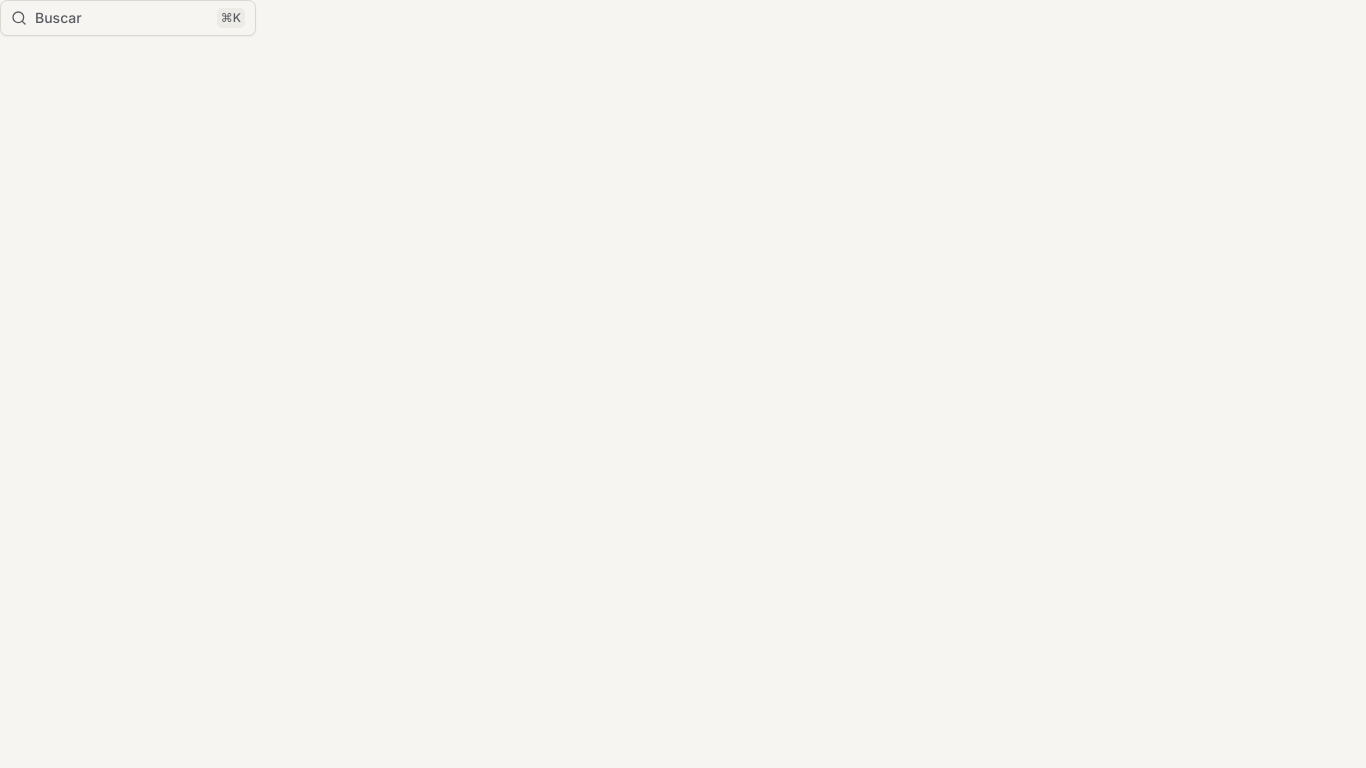
Test: CommandMenu › finds quick actions by their Spanish label (M2): 'pago' lists Registrar pago
Press k
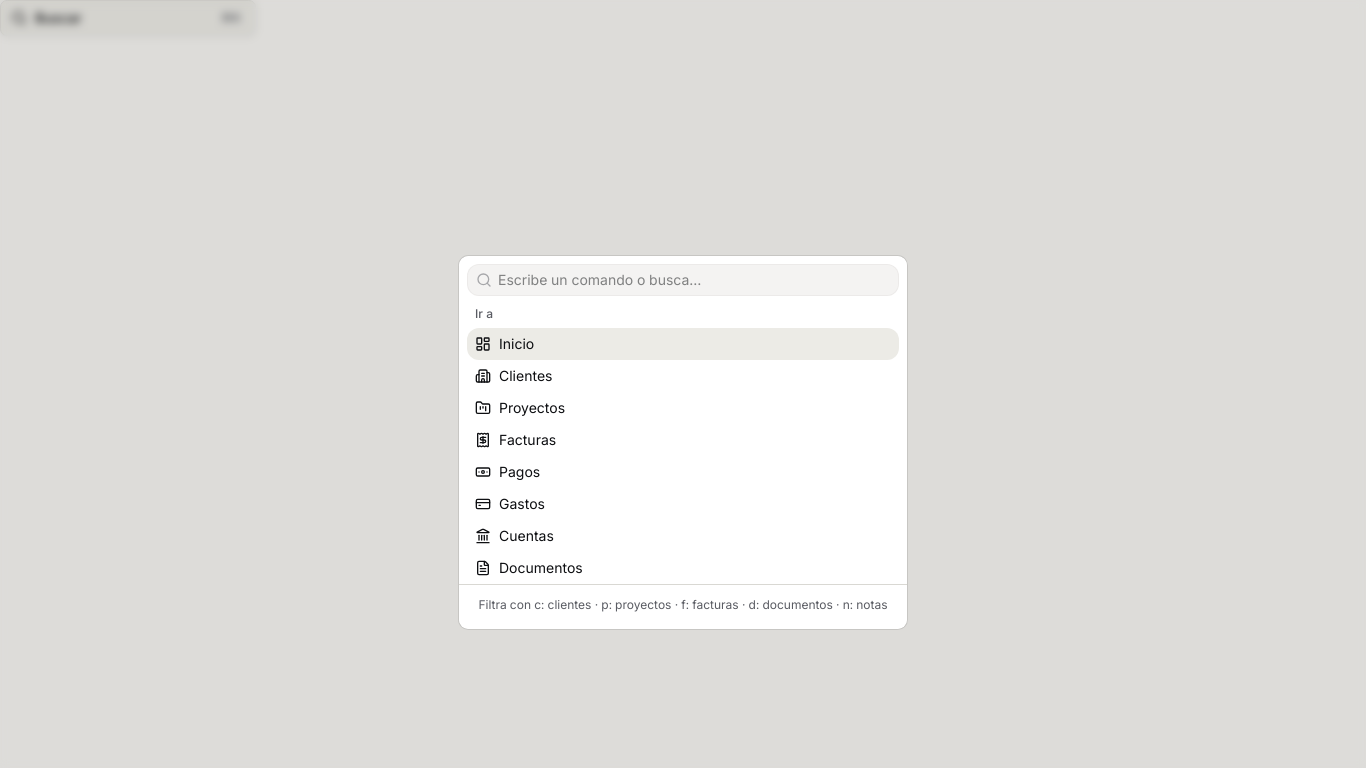
Type "pago" into the dropdown at (695, 280), box [492,270,898,290]
(page scrolled)
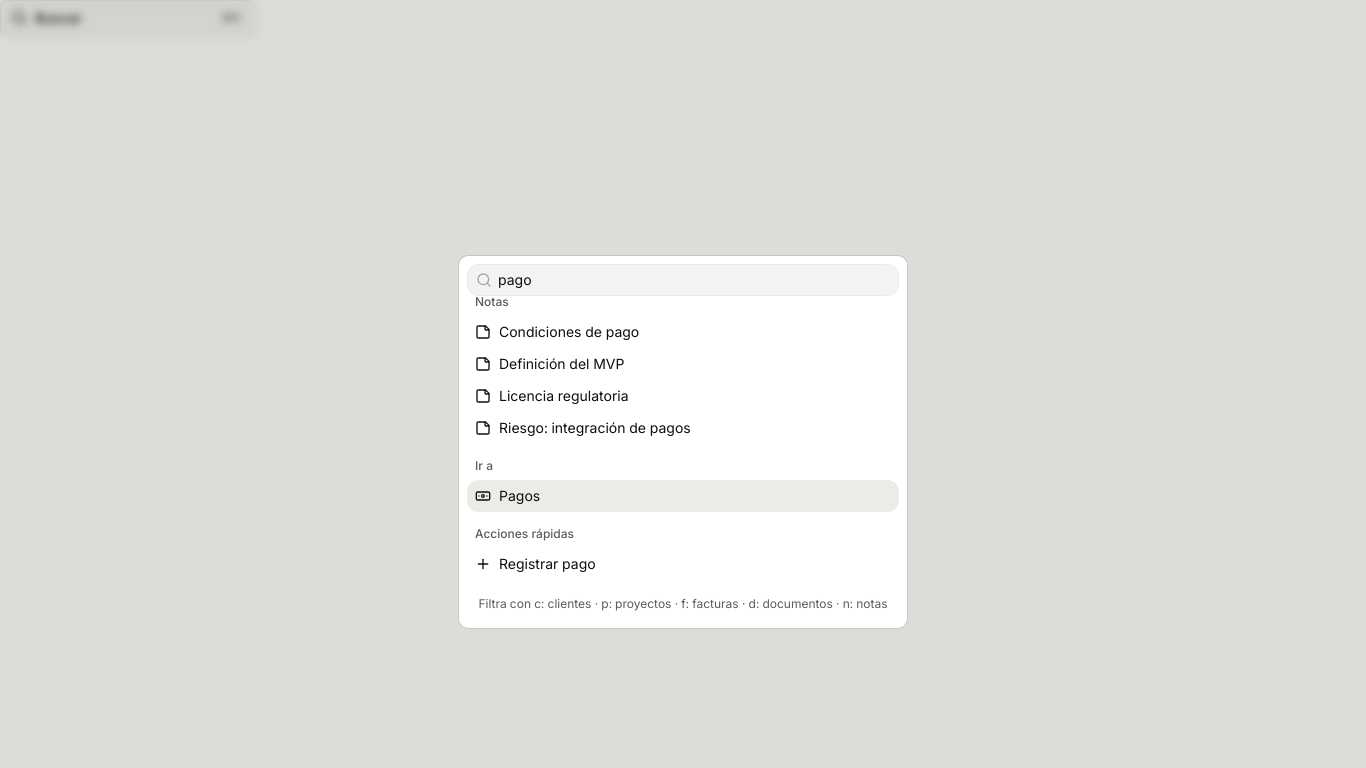
Check: the option "Registrar pago" is shown, box [475,555,596,572]
